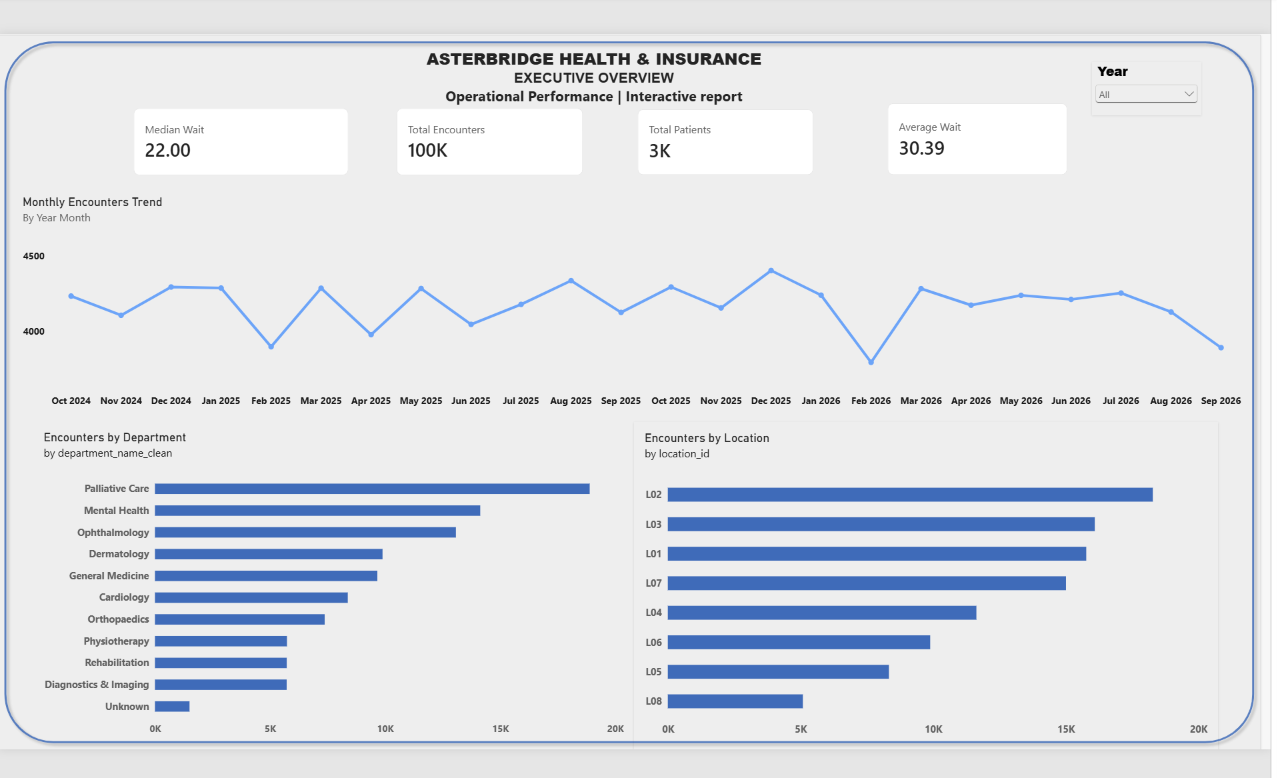

The page's visual inventory and layout, read from the dashboard file:
{"tool":"powerbi","page":{"name":"Executive Overview","canvas":[1920,1080],"ordinal":0},"visuals":[{"type":"shape","box":[0,1.5,1905.4,1078.7],"z":0},{"type":"cardVisual","fields":{"Data":["public vw_encounters_final.Median Wait Corrected"]},"box":[188.6,98.1,356,131.3],"z":1000},{"type":"textbox","box":[491.8,19.6,814.7,102.6],"z":2000},{"type":"clusteredBarChart","fields":{"Category":["public vw_encounters_reporting.department_name_clean"],"Y":["public vw_encounters_final.Total Encounters Corrected"]},"box":[52.1,584,907.3,495.4],"z":3000},{"type":"lineChart","title":"Monthly Encounters Trend","fields":{"Category":["DateTable.Year Month"],"Y":["DateTable.Monthly Encounters"]},"box":[21.1,229.3,1872.2,354.5],"z":4000},{"type":"clusteredBarChart","fields":{"Category":["public vw_encounters_reporting.location_id"],"Y":["public vw_encounters_final.Total Encounters Corrected"]},"box":[959.4,584.8,881.5,495],"z":5000},{"type":"cardVisual","fields":{"Data":["public vw_encounters_final.Total Patients Corrected"]},"box":[948.9,99.6,297.2,129.7],"z":6000},{"type":"cardVisual","fields":{"Data":["public vw_encounters_final.Average Wait Corrected"]},"box":[1326.1,90.5,303.2,138.8],"z":7000},{"type":"cardVisual","fields":{"Data":["public vw_encounters_final.Total Encounters Corrected"]},"box":[585.4,98.1,313.8,131.3],"z":8000},{"type":"slicer","fields":{"Values":["DateTable.Year"]},"box":[1651.2,41.7,164.4,80],"z":9000}]}

Visuals, with their boxes on the page's 1920x1080 design canvas (x1, y1, x2, y2). These are canvas units, not pixel positions in the 1277x778 screenshot, which may show the page scaled, cropped or inside an application window:
shape: 0, 2, 1905, 1080
cardVisual - public vw_encounters_final.Median Wait Corrected: 189, 98, 545, 229
textbox: 492, 20, 1306, 122
clusteredBarChart - public vw_encounters_reporting.department_name_clean x public vw_encounters_final.Total Encounters Corrected: 52, 584, 959, 1079
"Monthly Encounters Trend" lineChart: 21, 229, 1893, 584
clusteredBarChart - public vw_encounters_reporting.location_id x public vw_encounters_final.Total Encounters Corrected: 959, 585, 1841, 1080
cardVisual - public vw_encounters_final.Total Patients Corrected: 949, 100, 1246, 229
cardVisual - public vw_encounters_final.Average Wait Corrected: 1326, 90, 1629, 229
cardVisual - public vw_encounters_final.Total Encounters Corrected: 585, 98, 899, 229
slicer - DateTable.Year: 1651, 42, 1816, 122
